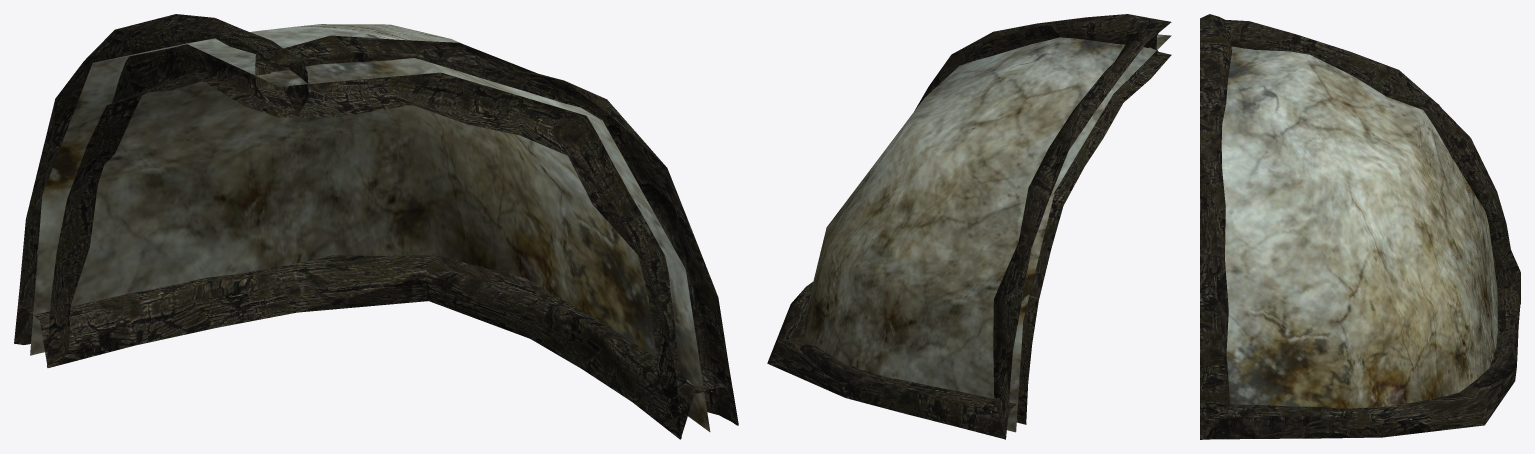
Rendered from corner_concave_round_short.dae.
3 views of the same model, side by side, from view 1: azimuth 30°, elevation 25°; view 2: azimuth 150°, elevation 25°; view 3: azimuth 270°, elevation 25° (orthographic). The views are drawn at different scales.
Visible parts, largest first — view 1: pPlane13, polySurface39; view 2: pPlane13, polySurface39; view 3: pPlane13, polySurface39.
Boxes of the visible parts, <box> form: pPlane13: <box>30,24,710,431</box>; polySurface39: <box>14,14,738,439</box>; pPlane13: <box>804,34,1171,432</box>; polySurface39: <box>767,14,1171,439</box>; pPlane13: <box>1221,46,1497,408</box>; polySurface39: <box>1200,14,1520,439</box>.
Size of the model in its own units: 2.13 by 2.13 by 2.13.
